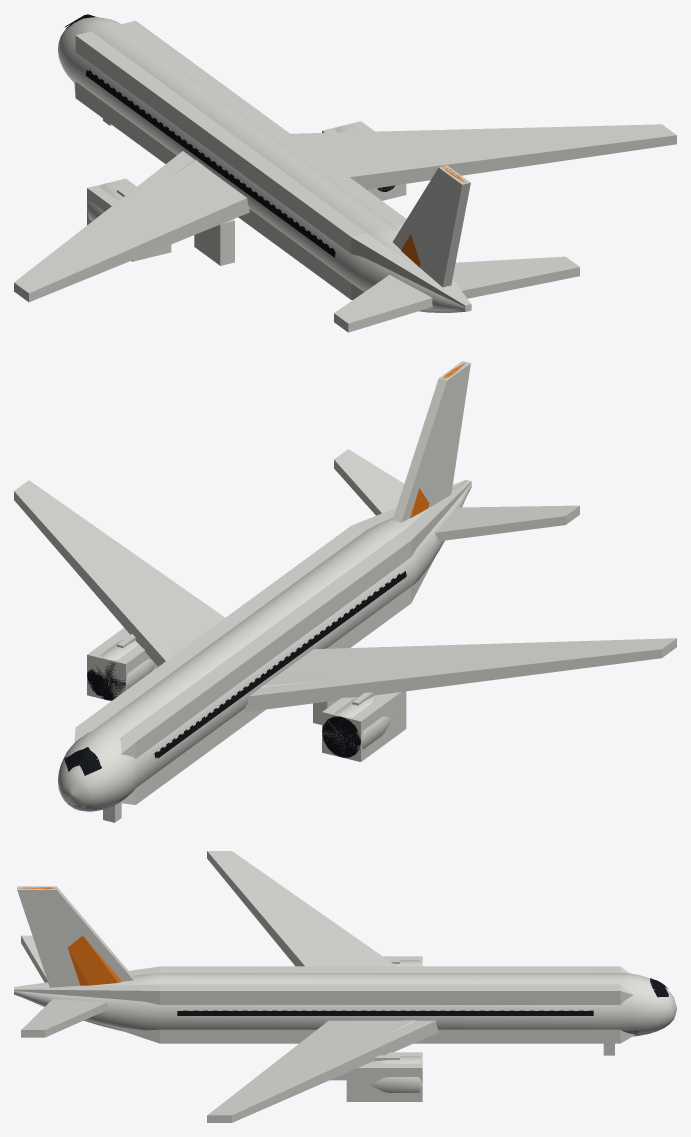
The model's file is bne_ac_wide_orange.dae.
3 views of the same model, one above another, from view 1: azimuth 30°, elevation 25°; view 2: azimuth 150°, elevation 25°; view 3: azimuth 270°, elevation 25° (orthographic). The views are drawn at different scales.
Visible parts, largest first — view 1: Colmesh_bne_ac_wide_orange-1, bne_ac_wide_orange160, bne_ac_wide_orange16; view 2: Colmesh_bne_ac_wide_orange-1, bne_ac_wide_orange160, bne_ac_wide_orange16; view 3: Colmesh_bne_ac_wide_orange-1, bne_ac_wide_orange160, bne_ac_wide_orange16.
Boxes of the visible parts, box(x1,y1,x2,y2) form: Colmesh_bne_ac_wide_orange-1: box(14, 20, 676, 332); bne_ac_wide_orange160: box(14, 16, 471, 327); bne_ac_wide_orange16: box(64, 14, 469, 310); Colmesh_bne_ac_wide_orange-1: box(14, 361, 676, 822); bne_ac_wide_orange160: box(58, 362, 674, 811); bne_ac_wide_orange16: box(64, 481, 466, 795); Colmesh_bne_ac_wide_orange-1: box(14, 851, 634, 1122); bne_ac_wide_orange160: box(14, 887, 676, 1120); bne_ac_wide_orange16: box(16, 977, 668, 1034).
Size of the model in its own units: 60.1 by 63.7 by 17.5.
